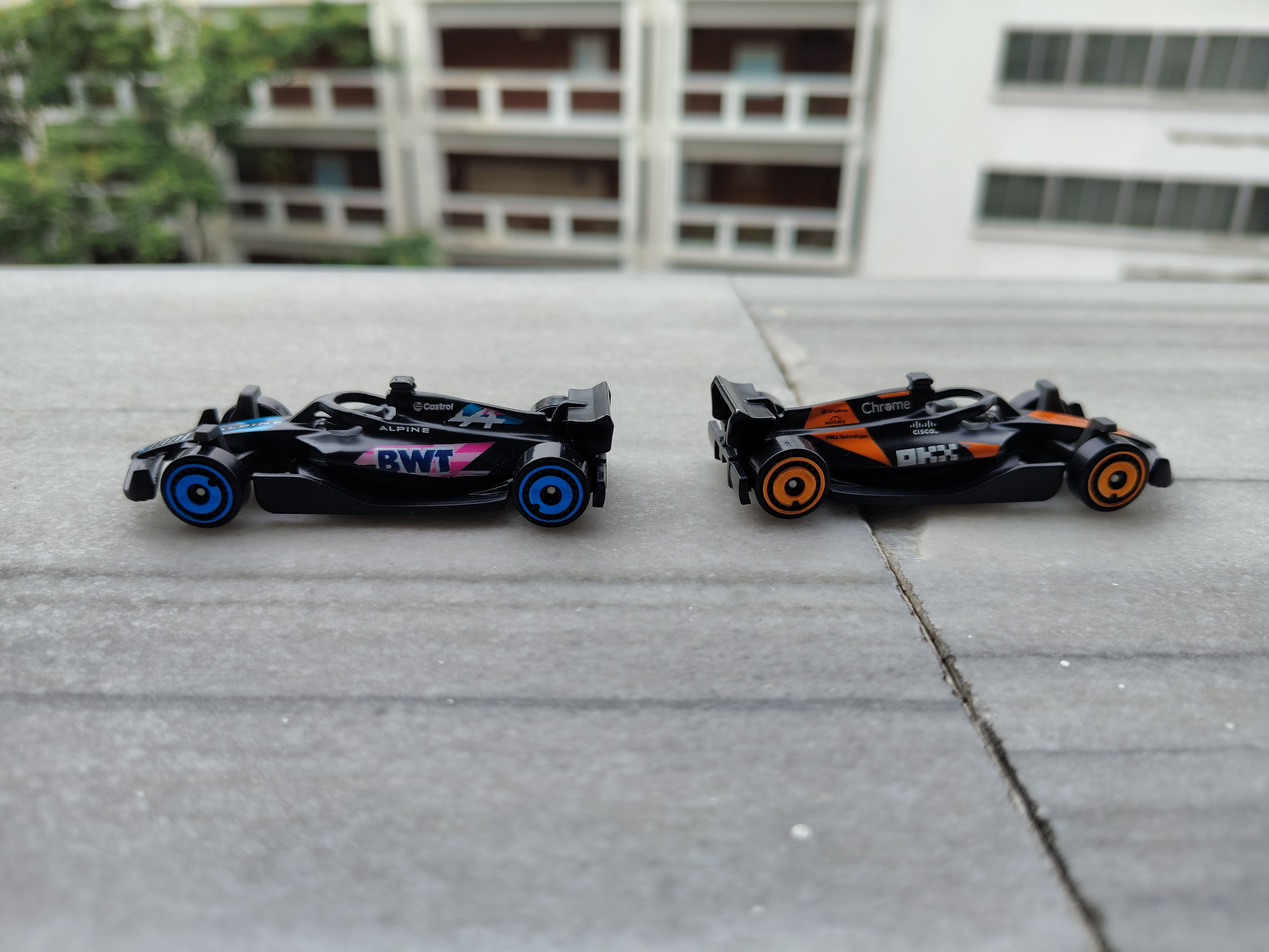Alpine A524: (64, 284, 630, 583)
McLaren MCL40: (657, 342, 1232, 541)
